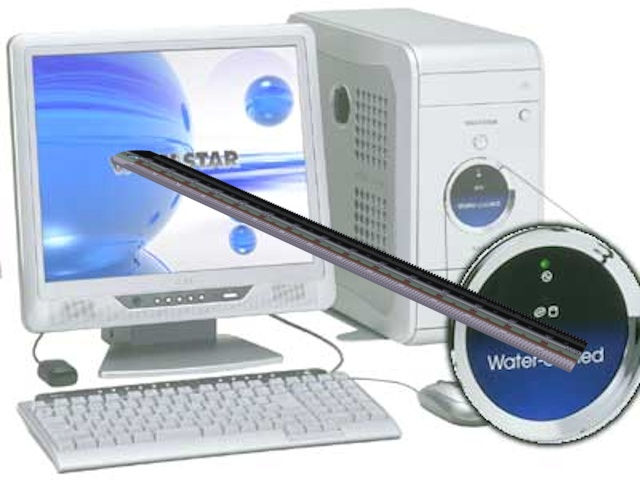ruler: (112, 145, 592, 384)
